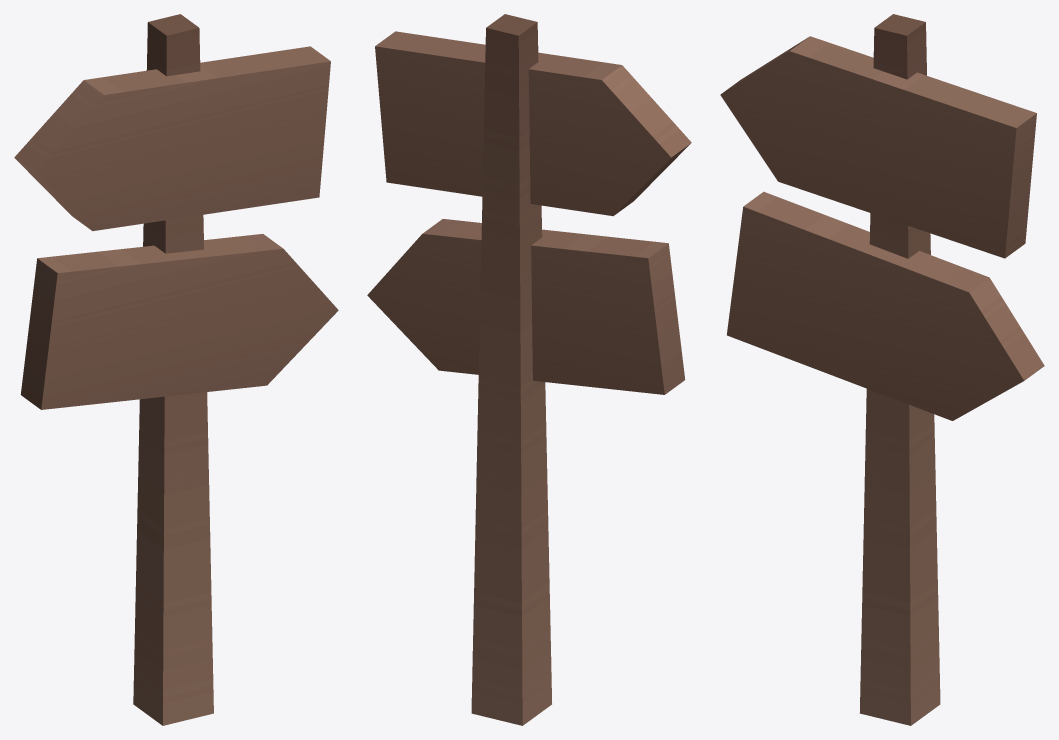
File: signpost.glb
3 views of the same model, side by side, from view 1: azimuth 30°, elevation 25°; view 2: azimuth 150°, elevation 25°; view 3: azimuth 330°, elevation 25° (orthographic).
Parts seen in each view (by area): view 1: signpost; view 2: signpost; view 3: signpost.
Part boxes in pixels (box(x1,y1,x2,y2)): signpost: box(14, 14, 338, 725); signpost: box(367, 14, 691, 725); signpost: box(720, 14, 1044, 725).
Bounding box in the file's own units: 0.5674 × 1.22 × 0.1139.
1 material, 1 textured.
